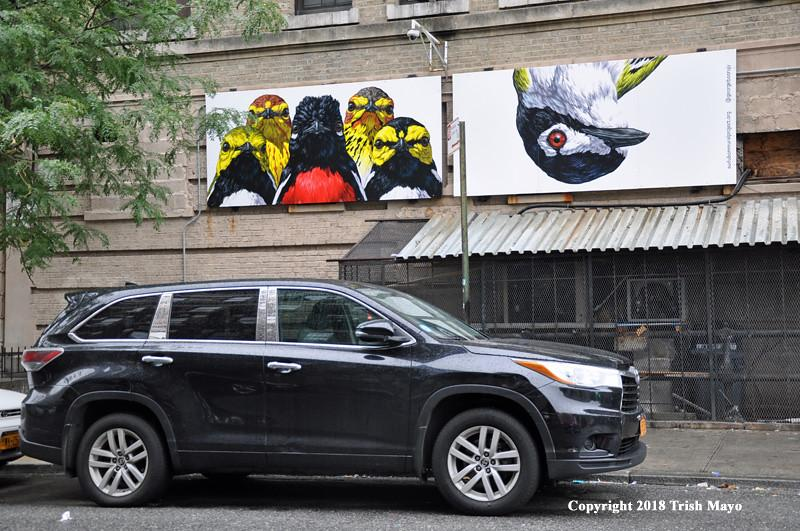car: (19, 278, 649, 515)
